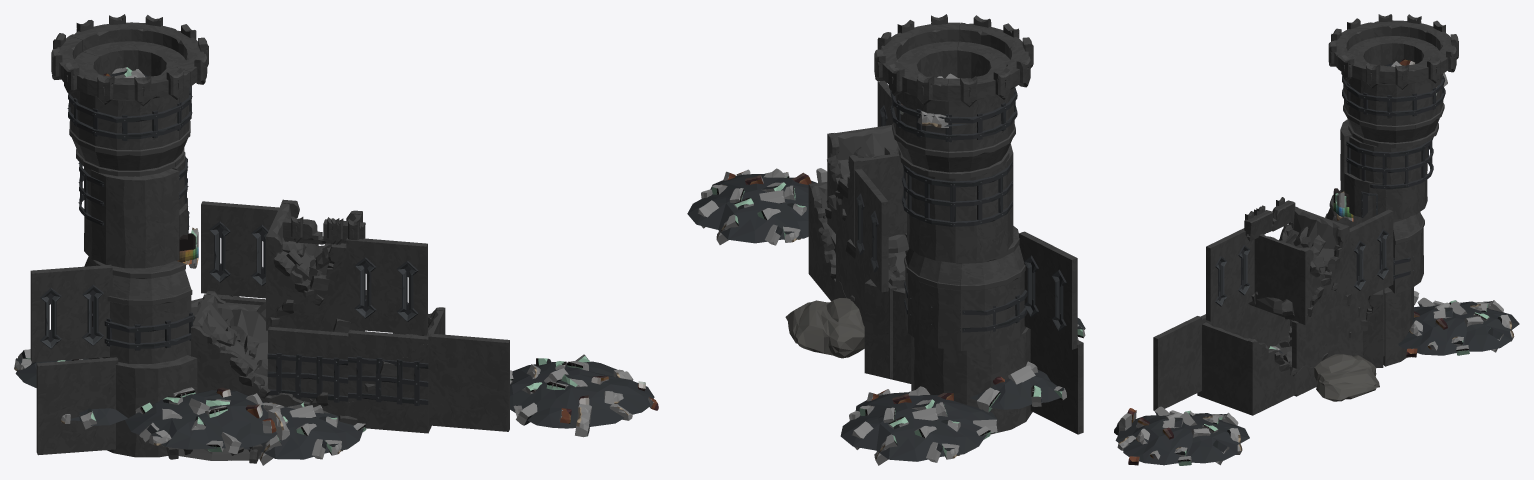
File: isle_ruin_b.gltf
3 renders of one model, left to right at view 1: azimuth 30°, elevation 25°; view 2: azimuth 150°, elevation 25°; view 3: azimuth 270°, elevation 25°, orthographic. The views are drawn at different scales.
Visible parts, largest first — view 1: isle_ruin_b; view 2: isle_ruin_b; view 3: isle_ruin_b.
Boxes of the visible parts, box(x1,y1,x2,y2) form: isle_ruin_b: box(14, 14, 658, 465); isle_ruin_b: box(687, 14, 1085, 465); isle_ruin_b: box(1114, 14, 1519, 465).
Bounding box in the file's own units: 34.52 × 25.15 × 30.1.
2 materials, 2 textured.
